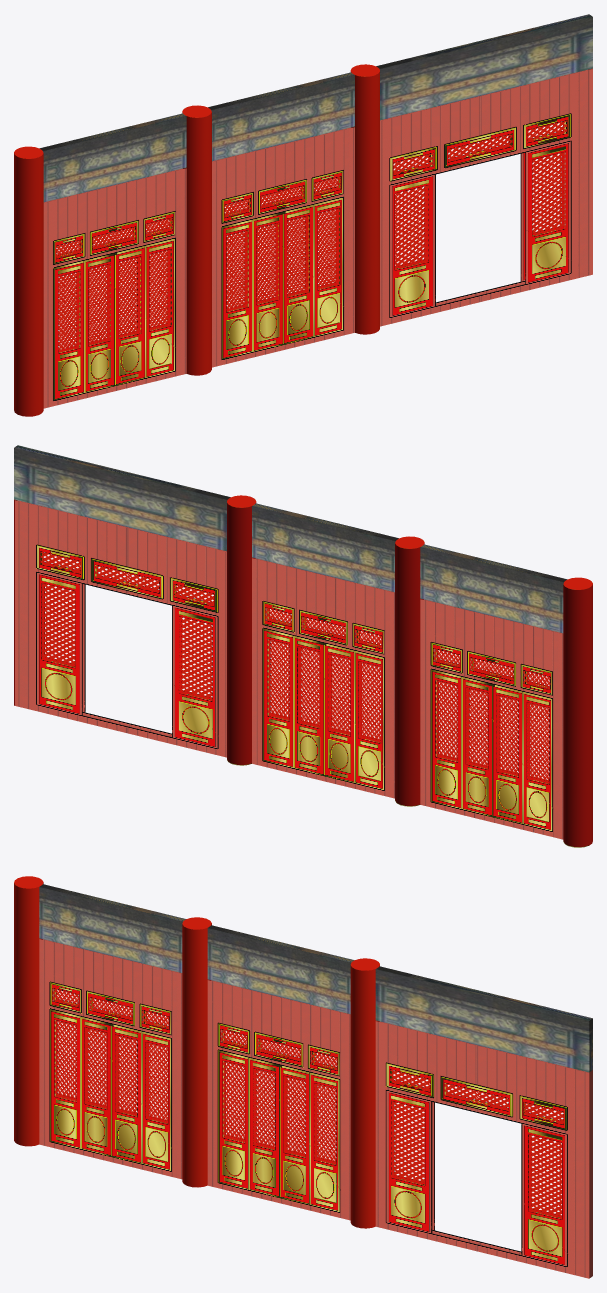
File: wallwalldoor.dae
3 renders of one model, top to bottom at view 1: azimuth 30°, elevation 25°; view 2: azimuth 150°, elevation 25°; view 3: azimuth 330°, elevation 25°, orthographic.
Parts seen in each view (by area): view 1: MainNode; view 2: MainNode; view 3: MainNode.
Boxes of the visible parts, x1,y1,x2,y2 form: MainNode: [14, 14, 592, 416]; MainNode: [14, 445, 592, 847]; MainNode: [14, 876, 592, 1278].
Size of the model in its own units: 11.21 by 4.8 by 0.4904.
Materials: 1 (1 with a texture image).
